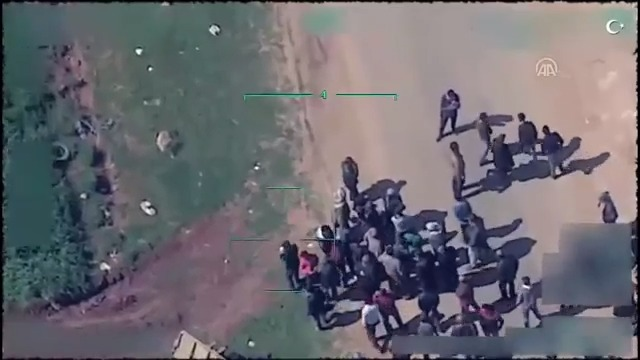insan: (535, 123, 573, 180), (300, 282, 335, 332), (359, 296, 387, 354), (445, 137, 470, 201), (490, 249, 520, 301), (437, 85, 462, 143), (412, 247, 441, 296), (277, 236, 302, 291), (334, 154, 364, 199), (471, 110, 492, 165)
